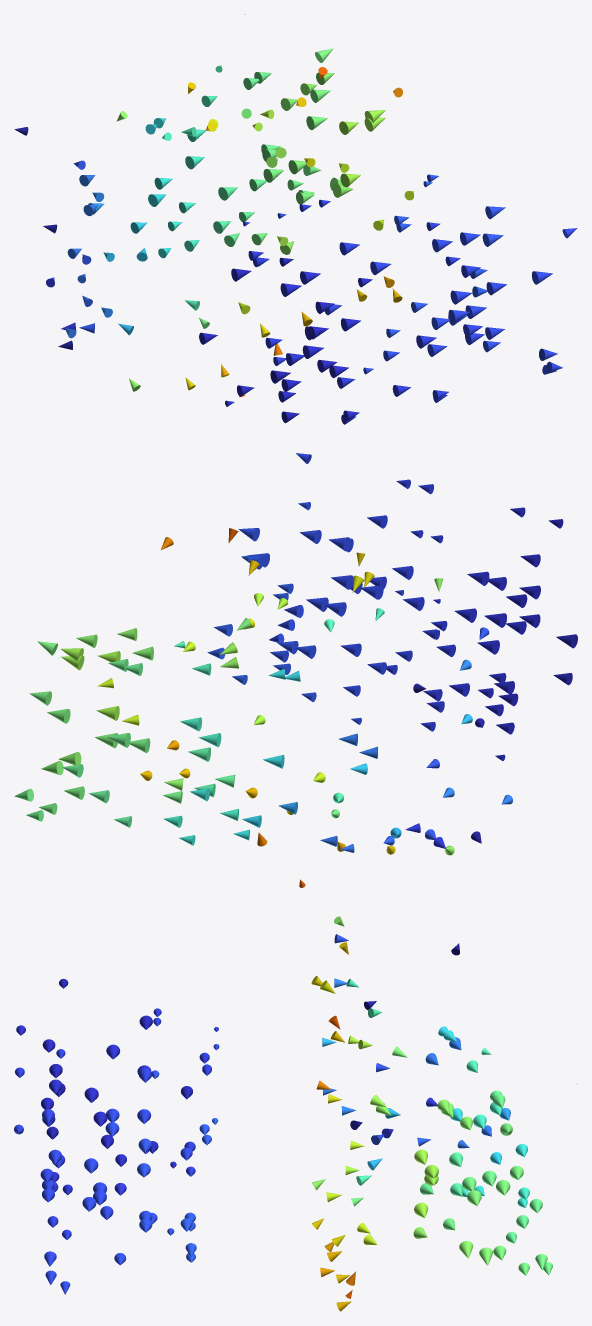
The model's file is LineasCorrienteN2-H2O_mh2-5.58_V-1.glb.
3 renders of one model, top to bottom at view 1: azimuth 30°, elevation 25°; view 2: azimuth 150°, elevation 25°; view 3: azimuth 270°, elevation 25°, orthographic. The views are drawn at different scales.
Size of the model in its own units: 0.000965 by 0.000812 by 0.00126.
Materials: 2 (2 with a texture image).
